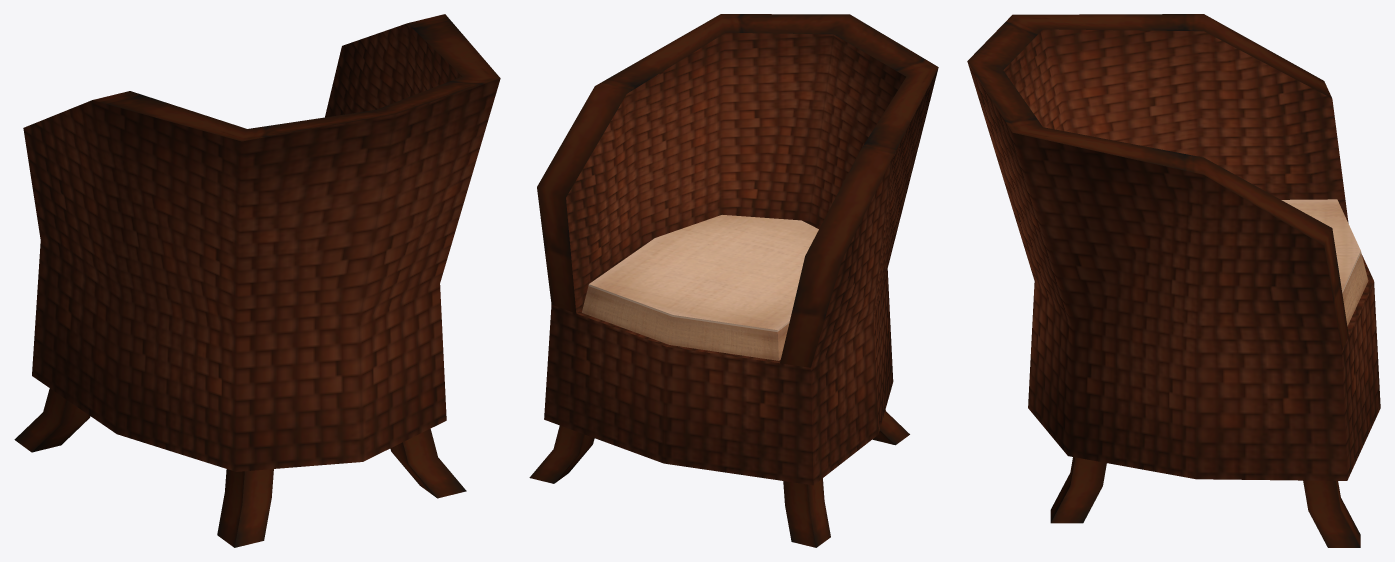
Rendered from ETC0610022.fbx.
The picture shows the model from 3 angles, left to right: view 1: azimuth 30°, elevation 25°; view 2: azimuth 150°, elevation 25°; view 3: azimuth 270°, elevation 25°; orthographic projection. The views are drawn at different scales.
Visible parts, largest first — view 1: smETC0610022; view 2: smETC0610022; view 3: smETC0610022.
Part boxes in pixels (bbox=[...]): smETC0610022: bbox=[14, 14, 500, 547]; smETC0610022: bbox=[529, 14, 938, 547]; smETC0610022: bbox=[967, 14, 1380, 547].
Bounding box in the file's own units: 107 × 123 × 113.
Materials: 1 (1 with a texture image).
